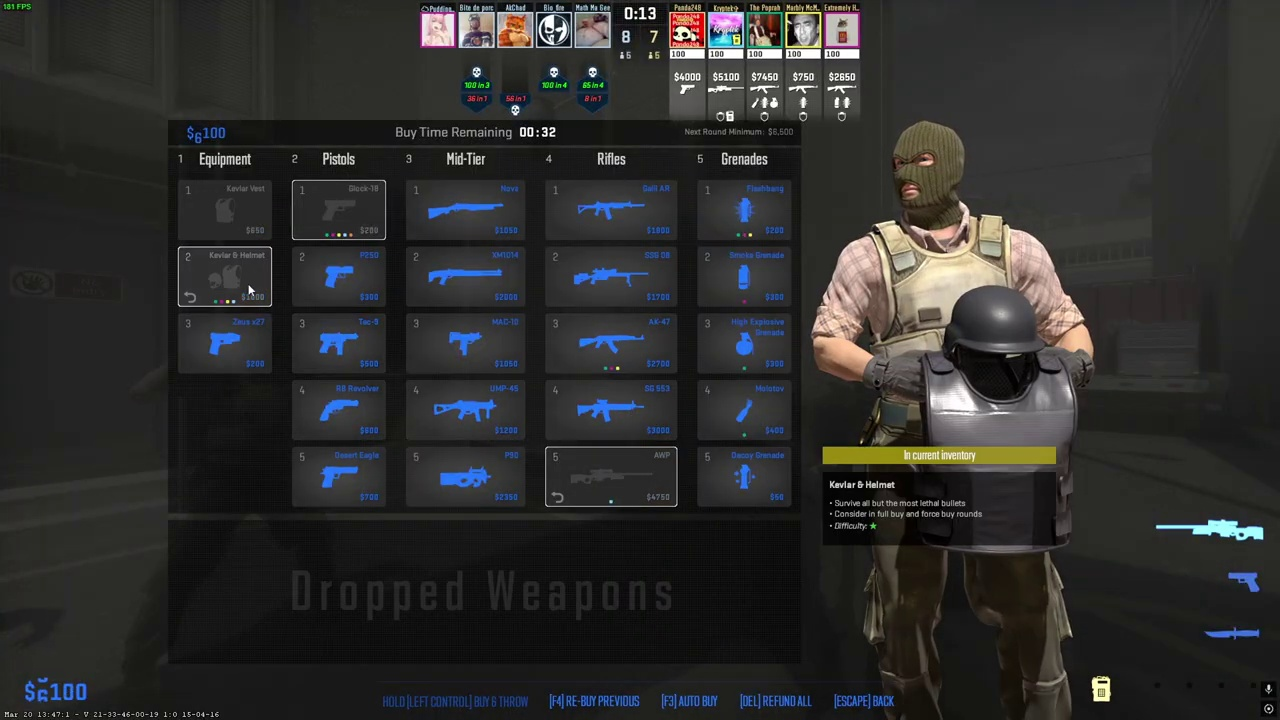Terrorist: (853, 122, 1084, 720)
